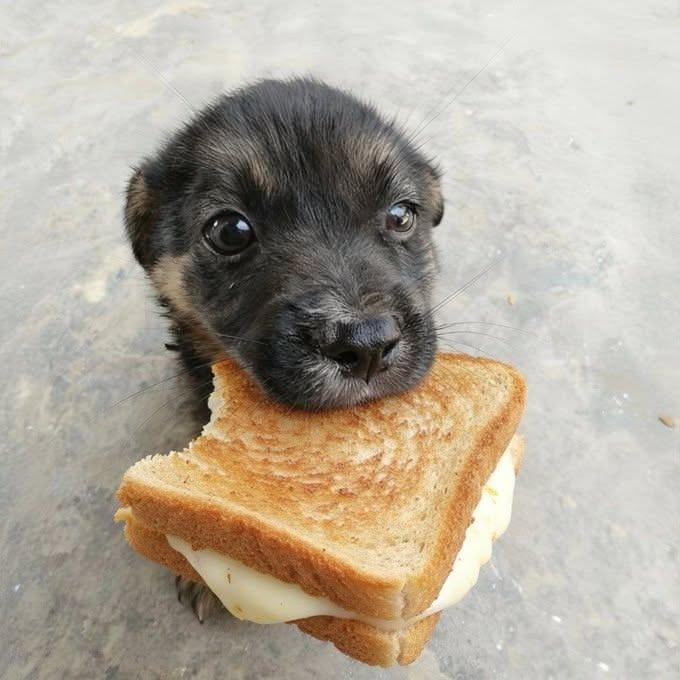puppy-dog: (123, 76, 446, 624)
